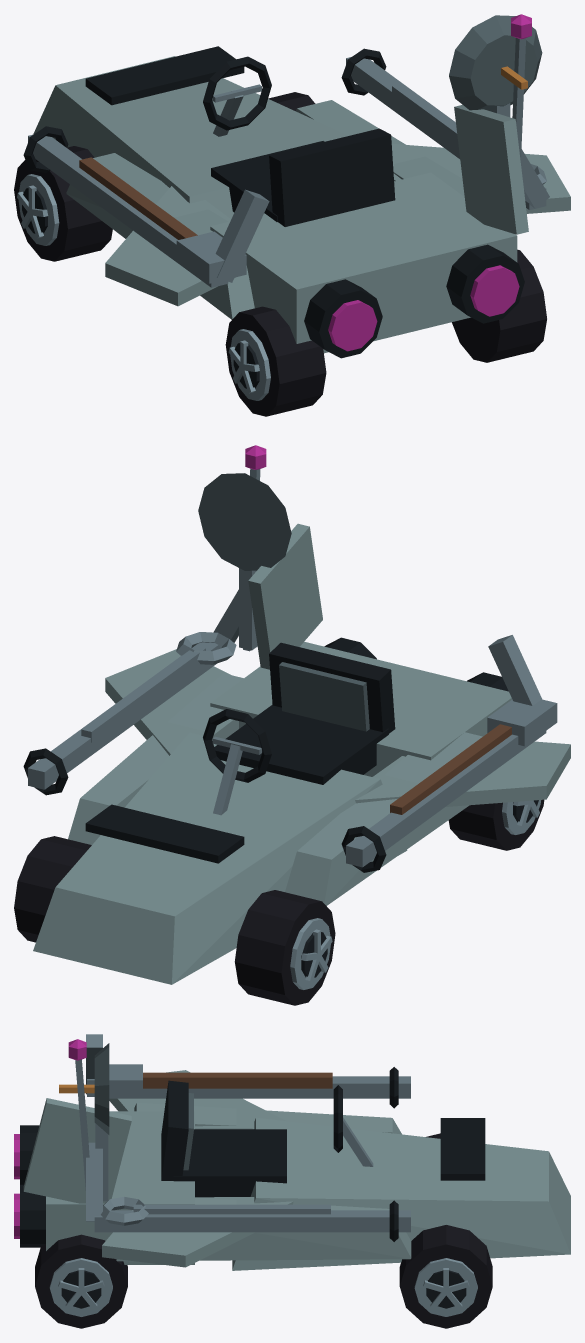
Rendered from kart.glb.
The picture shows the model from 3 angles, top to bottom: view 1: azimuth 30°, elevation 25°; view 2: azimuth 150°, elevation 25°; view 3: azimuth 270°, elevation 25°; orthographic projection. The views are drawn at different scales.
Parts seen in each view (by area): view 1: identity-shuttle-shuttle-flight-planform, identity-shuttle-driver-cockpit, identity-shuttle-motif-pipes, wheel-rear-left, wheel-front-left, identity-shuttle-motif-radar, identity-shuttle-motif-tools, wheel-rear-right, identity-shuttle-motif-antenna, wheel-front-right; view 2: identity-shuttle-shuttle-flight-planform, identity-shuttle-driver-cockpit, identity-shuttle-motif-pipes, wheel-front-left, identity-shuttle-motif-radar, identity-shuttle-motif-tools, wheel-front-right, wheel-rear-left; view 3: identity-shuttle-shuttle-flight-planform, identity-shuttle-motif-pipes, identity-shuttle-driver-cockpit, wheel-front-right, identity-shuttle-motif-tools, wheel-rear-right, identity-shuttle-motif-radar, identity-shuttle-motif-antenna.
Boxes of the visible parts, bbox=[...] form: identity-shuttle-shuttle-flight-planform: bbox=[33, 46, 570, 358]; identity-shuttle-driver-cockpit: bbox=[203, 56, 395, 226]; identity-shuttle-motif-pipes: bbox=[23, 48, 549, 287]; wheel-rear-left: bbox=[225, 306, 326, 416]; wheel-front-left: bbox=[14, 146, 112, 261]; identity-shuttle-motif-radar: bbox=[449, 15, 542, 117]; identity-shuttle-motif-tools: bbox=[79, 83, 546, 283]; wheel-rear-right: bbox=[452, 249, 546, 362]; identity-shuttle-motif-antenna: bbox=[511, 14, 531, 162]; wheel-front-right: bbox=[268, 92, 315, 110]; identity-shuttle-shuttle-flight-planform: bbox=[33, 523, 570, 984]; identity-shuttle-driver-cockpit: bbox=[203, 642, 395, 815]; identity-shuttle-motif-pipes: bbox=[23, 589, 546, 872]; wheel-front-left: bbox=[234, 890, 335, 1005]; identity-shuttle-motif-radar: bbox=[198, 473, 291, 650]; identity-shuttle-motif-tools: bbox=[81, 632, 557, 814]; wheel-front-right: bbox=[14, 836, 91, 942]; wheel-rear-left: bbox=[448, 799, 544, 850]; identity-shuttle-shuttle-flight-planform: bbox=[14, 1070, 570, 1270]; identity-shuttle-motif-pipes: bbox=[86, 1034, 410, 1241]; identity-shuttle-driver-cockpit: bbox=[161, 1080, 373, 1197]; wheel-front-right: bbox=[399, 1225, 492, 1328]; identity-shuttle-motif-tools: bbox=[87, 1064, 332, 1225]; wheel-rear-right: bbox=[35, 1234, 127, 1328]; identity-shuttle-motif-radar: bbox=[59, 1043, 109, 1201]; identity-shuttle-motif-antenna: bbox=[68, 1039, 89, 1190].
Size of the model in its own units: 2.36 by 1.72 by 2.99.
